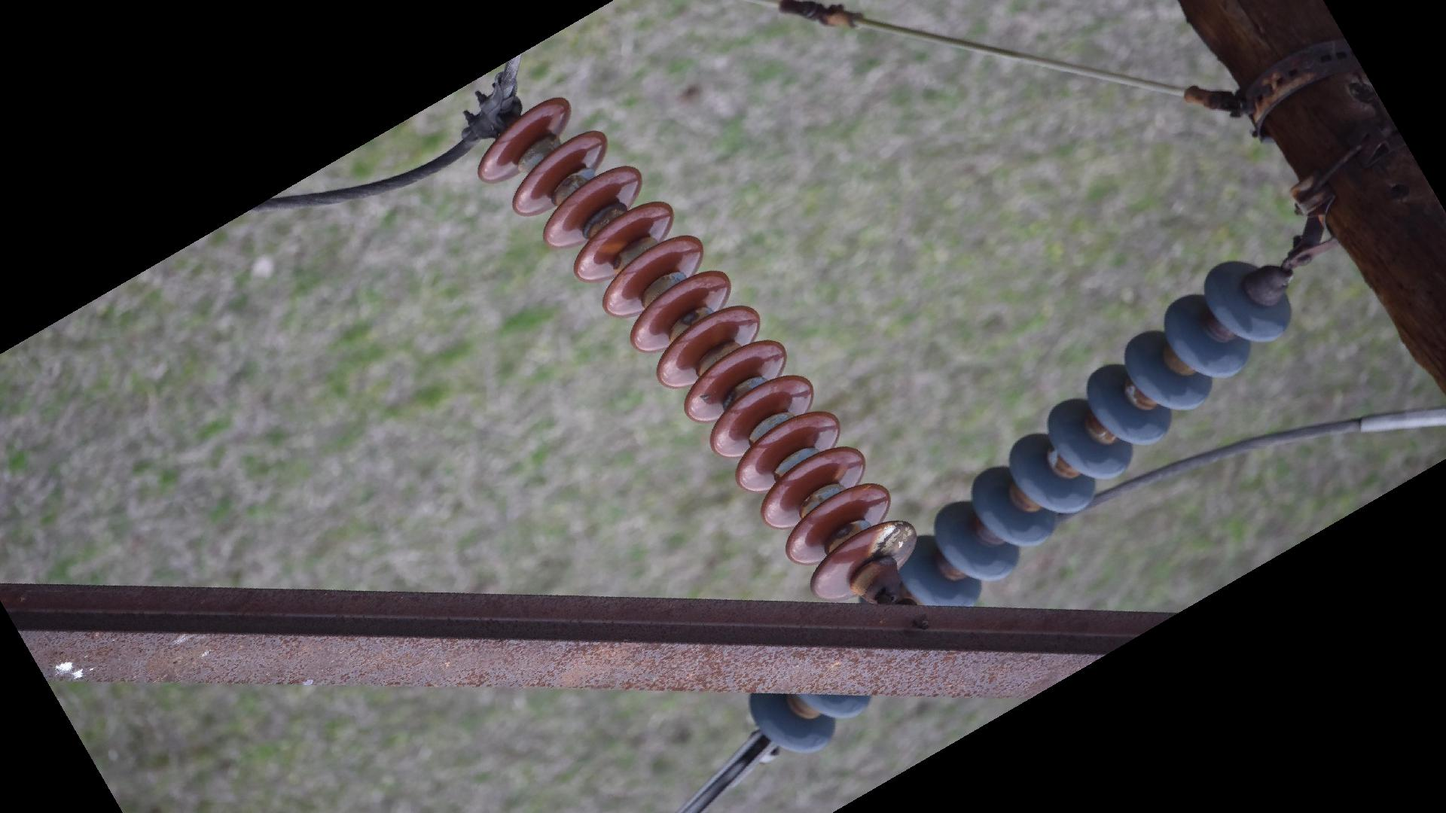insulator: (470, 93, 926, 604), (895, 251, 1296, 607), (737, 684, 871, 760)
insulator_flashover: (867, 519, 920, 565)
